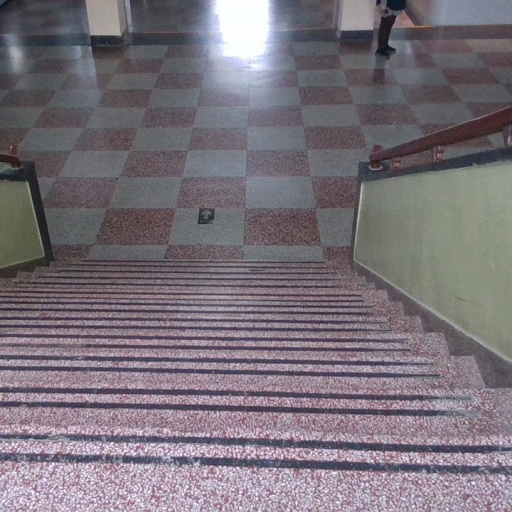Stairs: (0, 260, 512, 512)
